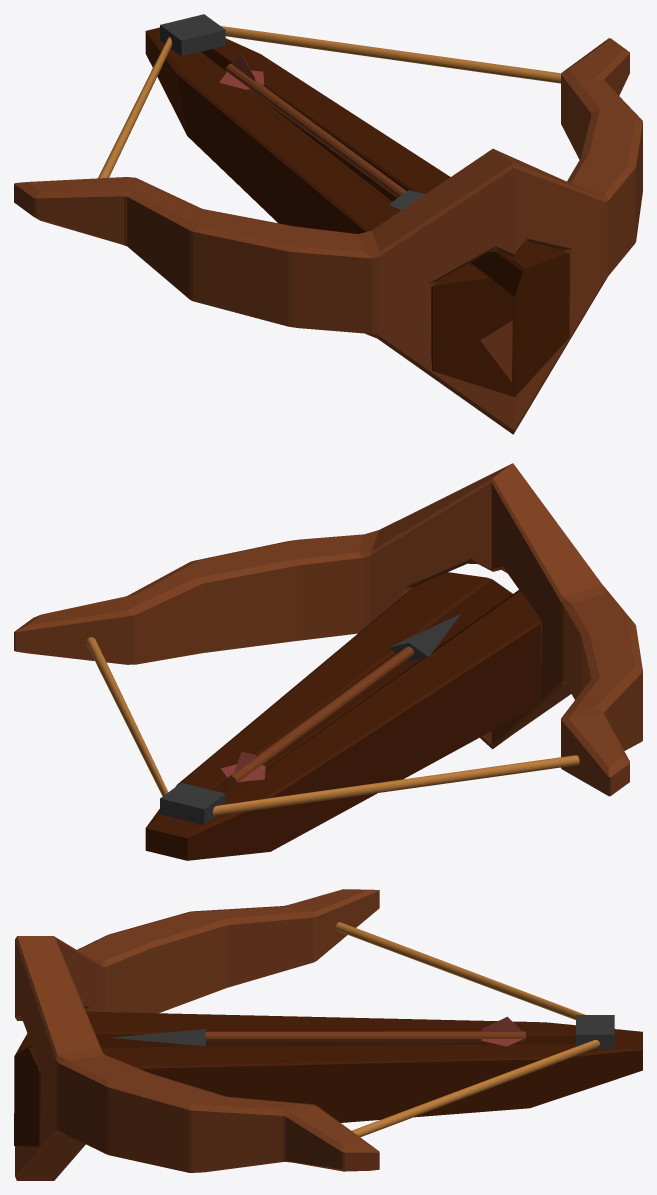
The model's file is Ballista.fbx.
3 renders of one model, top to bottom at view 1: azimuth 30°, elevation 25°; view 2: azimuth 150°, elevation 25°; view 3: azimuth 270°, elevation 25°, orthographic. The views are drawn at different scales.
Visible parts, largest first — view 1: Cube.298; view 2: Cube.298; view 3: Cube.298.
Boxes of the visible parts, <box> form: Cube.298: <box>14,14,642,434</box>; Cube.298: <box>14,463,642,860</box>; Cube.298: <box>14,889,642,1180</box>.
Bounding box in the file's own units: 12.67 × 5.51 × 12.82.
